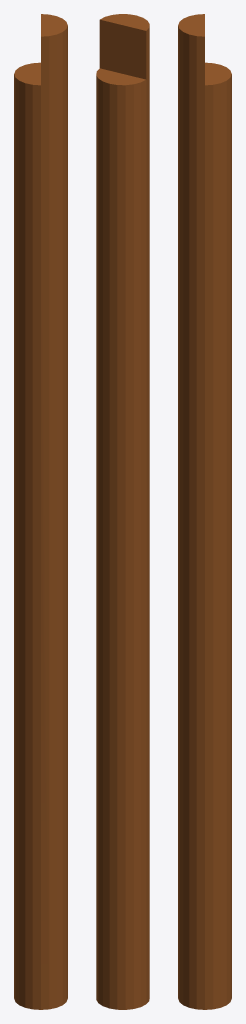
Rendered from Building_Modular_Jetty_Walkway_Timber_Upright_Beam_01.fbx.
3 views of the same model, side by side, from view 1: azimuth 90°, elevation 25°; view 2: azimuth 150°, elevation 25°; view 3: azimuth 270°, elevation 25° (orthographic).
Parts seen in each view (by area): view 1: Building_Modular_Jetty_Walkway_Timber_Upright_Beam_01; view 2: Building_Modular_Jetty_Walkway_Timber_Upright_Beam_01; view 3: Building_Modular_Jetty_Walkway_Timber_Upright_Beam_01.
Boxes of the visible parts, x1,y1,x2,y2 form: Building_Modular_Jetty_Walkway_Timber_Upright_Beam_01: [14, 14, 67, 1009]; Building_Modular_Jetty_Walkway_Timber_Upright_Beam_01: [96, 14, 149, 1009]; Building_Modular_Jetty_Walkway_Timber_Upright_Beam_01: [178, 14, 231, 1009].
Bounding box in the file's own units: 397 × 7941 × 397.
